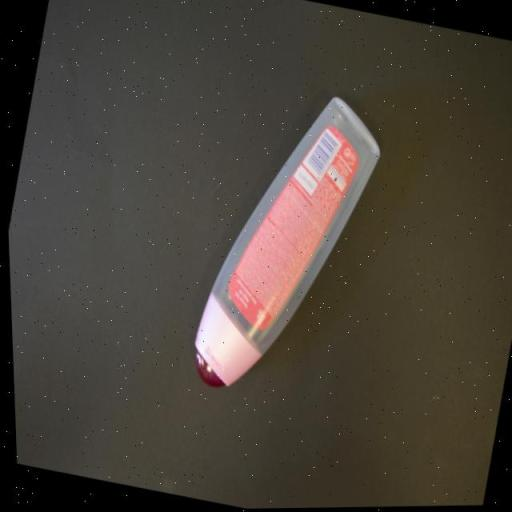plastic: (172, 78, 394, 416)
